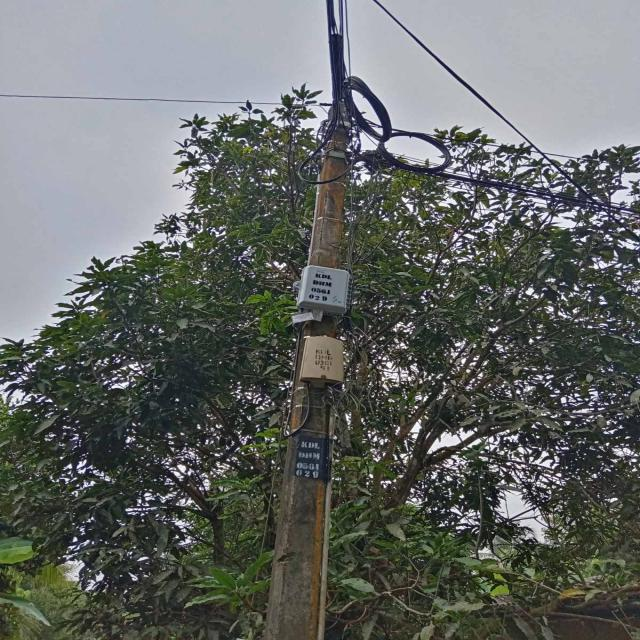light_pole: (254, 68, 364, 640)
